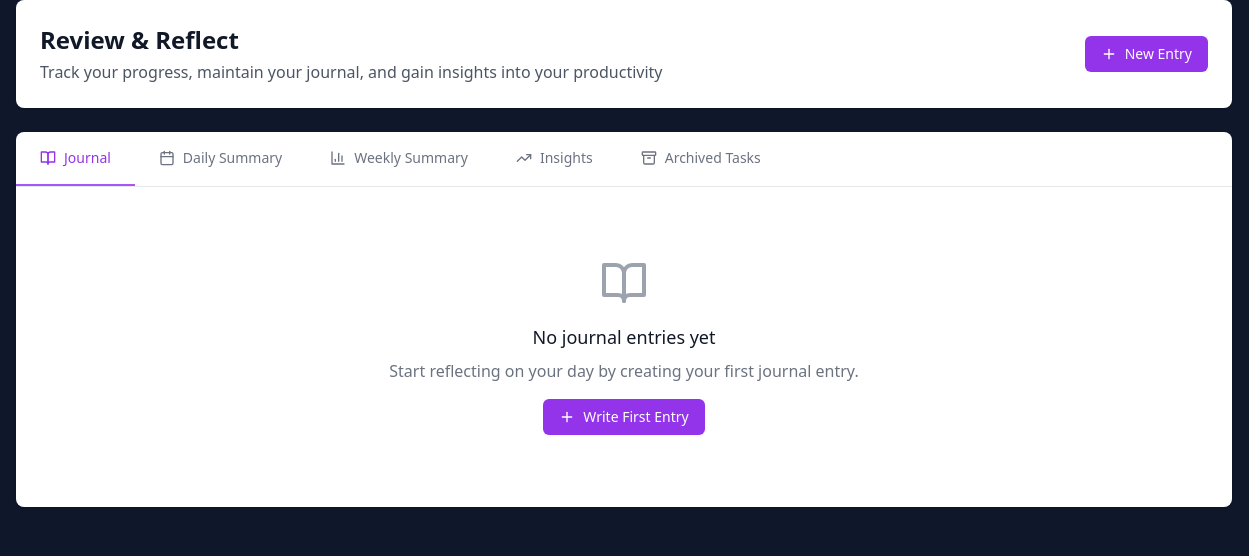
it: TaskReview › Daily Summary Tab › should display daily statistics
Click the button "Daily Summary". click: (221, 159)
box: [135,132,306,186]
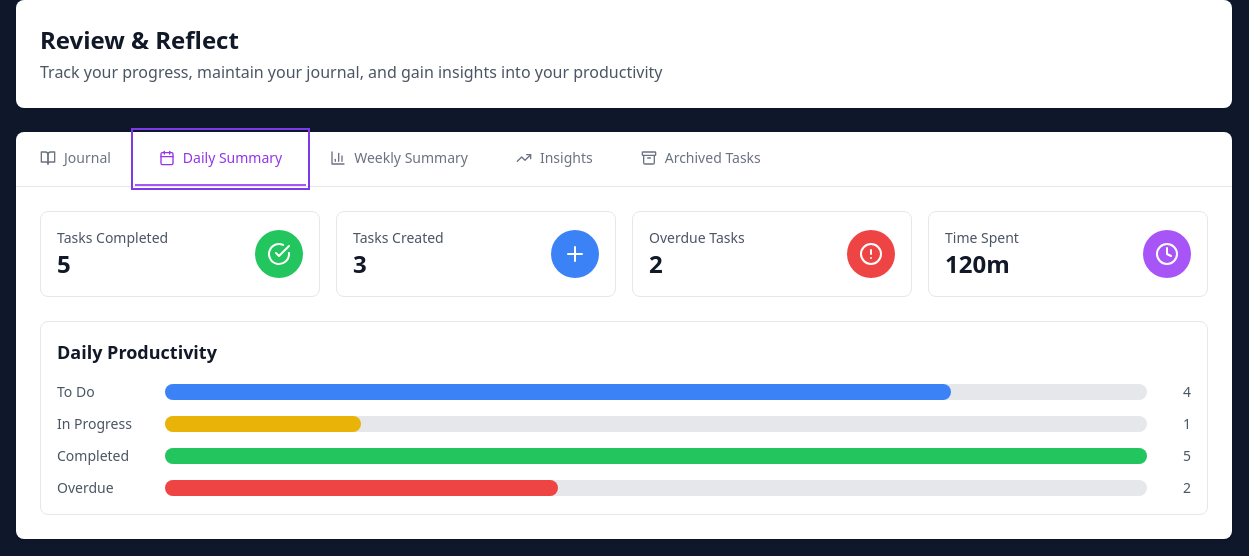
Expected: the text "Tasks Completed" is shown, [57,228,168,247]
Expected: the text "Tasks Created" is shown, [353,228,444,247]
Expected: the text "Overdue Tasks" is shown, [649,228,745,247]
